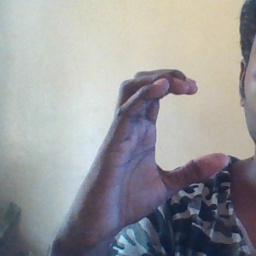C: (102, 63, 238, 191)
